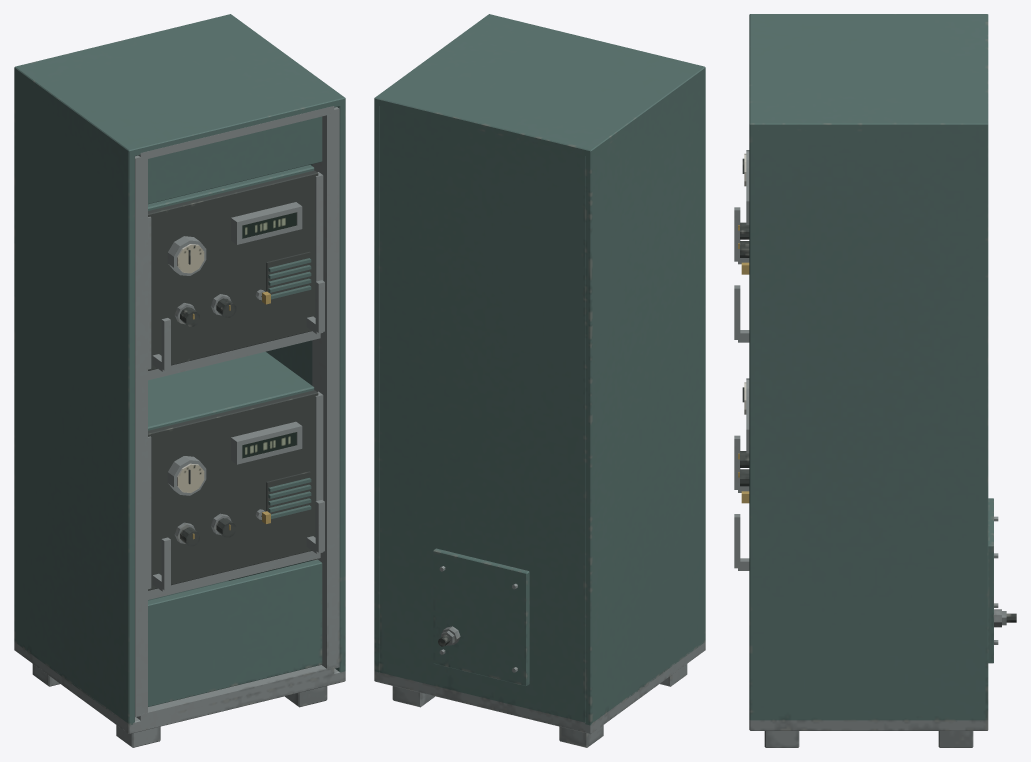
Rendered from bunker_radio_cabinet_with-controls.glb.
3 views of the same model, side by side, from view 1: azimuth 30°, elevation 25°; view 2: azimuth 150°, elevation 25°; view 3: azimuth 270°, elevation 25° (orthographic). The views are drawn at different scales.
Visible parts, largest first — view 1: RadioCabinet; view 2: RadioCabinet; view 3: RadioCabinet.
Part boxes in pixels (box(x1,y1,x2,y2)): RadioCabinet: box(14, 14, 345, 747); RadioCabinet: box(374, 14, 705, 747); RadioCabinet: box(734, 14, 1016, 747).
Size of what is drawn, in the model's own units: 0.6 by 1.6 by 0.65.
Materials: 1 (1 with a texture image).
